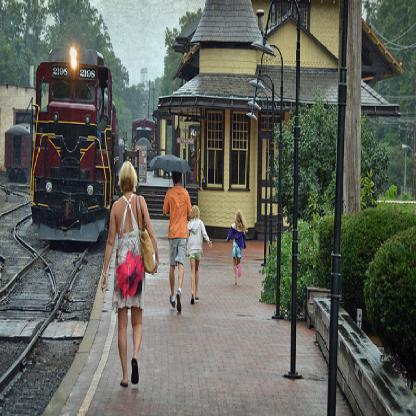handbag: (135, 195, 156, 274)
